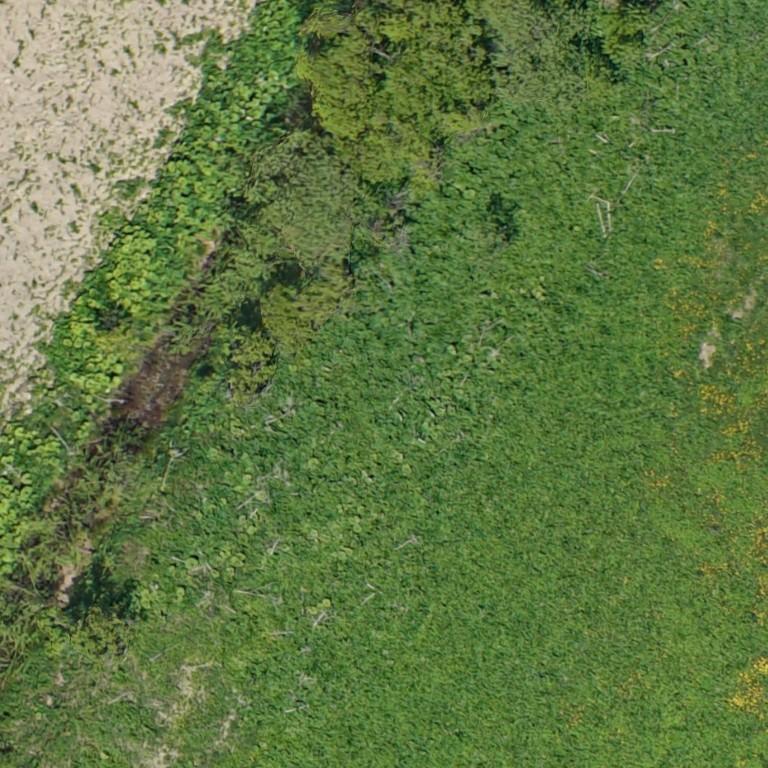hogweed: (9, 0, 767, 767)
